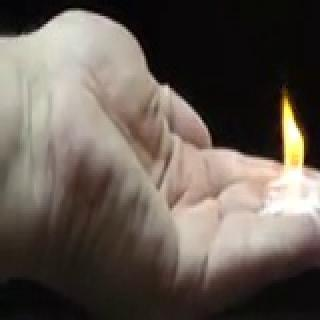fire: (267, 97, 303, 215)
